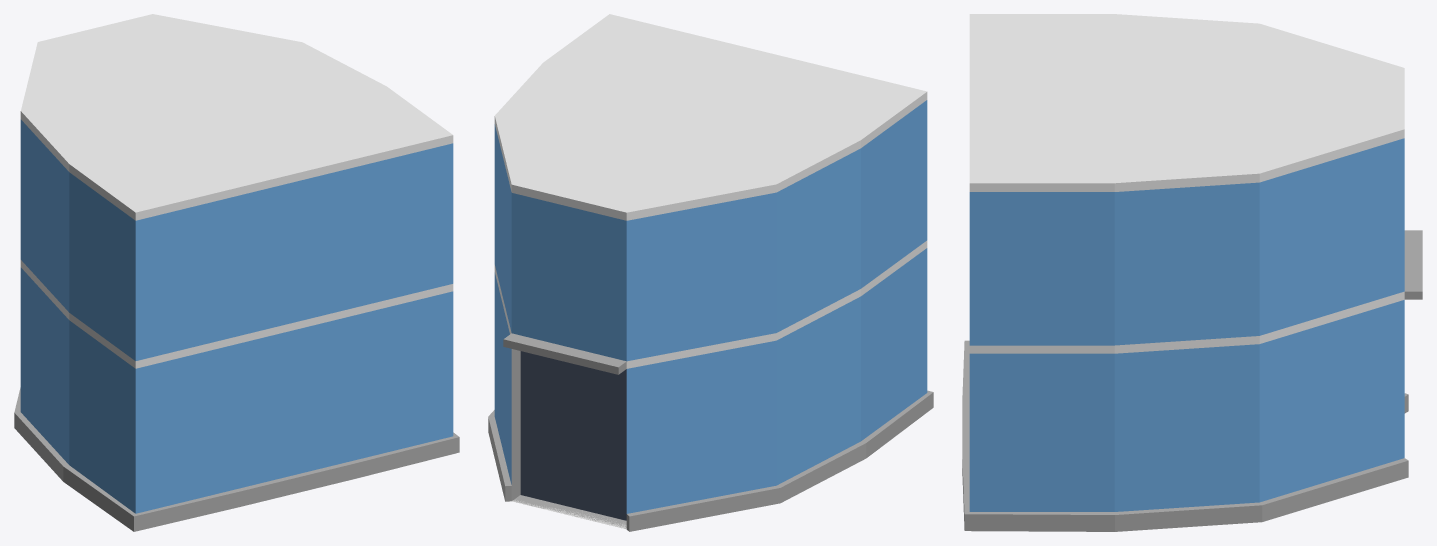
Rendered from building_1x1_11_g.glb.
The picture shows the model from 3 angles, left to right: view 1: azimuth 30°, elevation 25°; view 2: azimuth 150°, elevation 25°; view 3: azimuth 270°, elevation 25°; orthographic projection. The views are drawn at different scales.
Parts seen in each view (by area): view 1: Cube; view 2: Cube; view 3: Cube.
Boxes of the visible parts, box(x1,y1,x2,y2) form: Cube: box(14, 14, 459, 531); Cube: box(488, 14, 933, 531); Cube: box(962, 14, 1422, 531).
Size of the model in its own units: 1.74 by 1.6 by 1.93.
